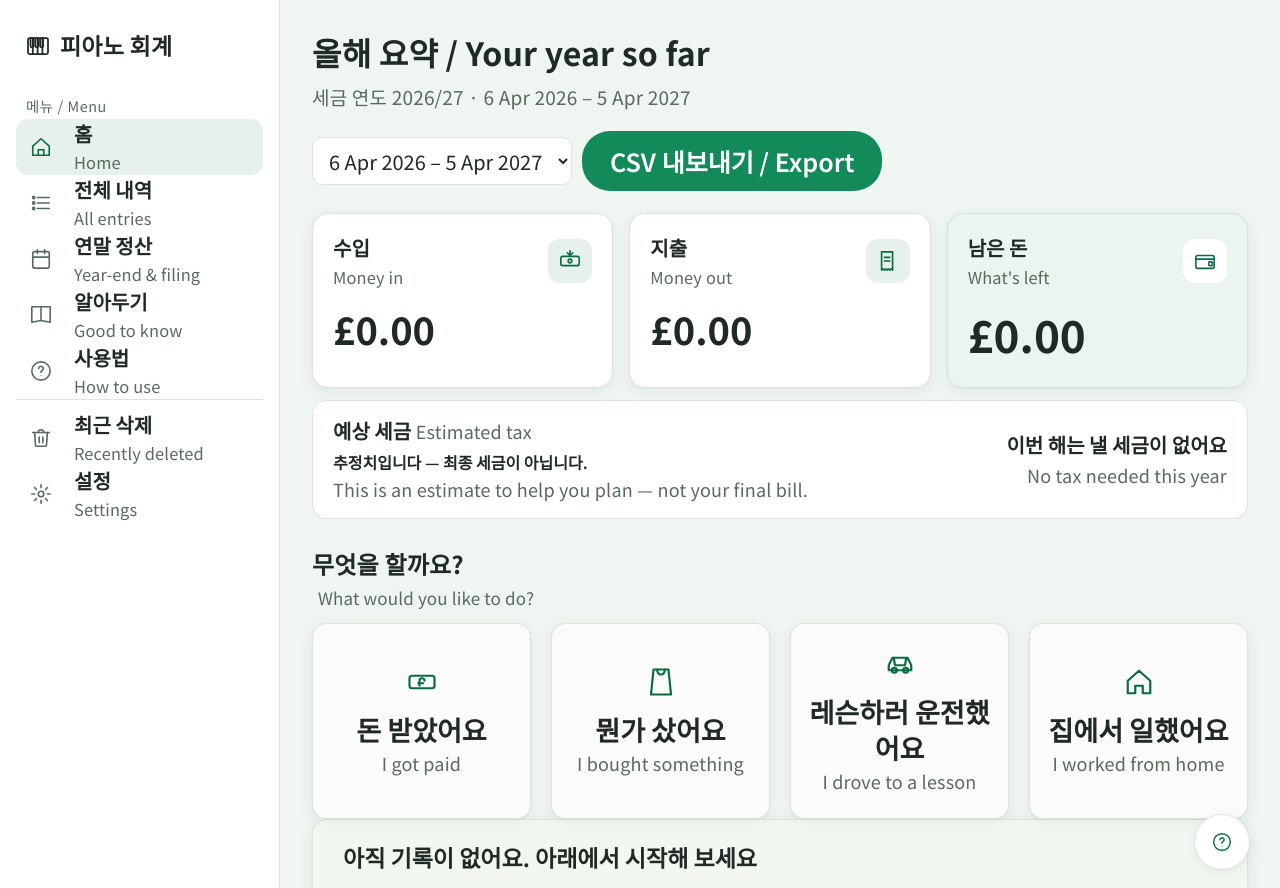
Test: HomeScreen › navigates to the How to use page from the sidebar
Click the text "How to use" at (117, 386), box [74,374,160,398]
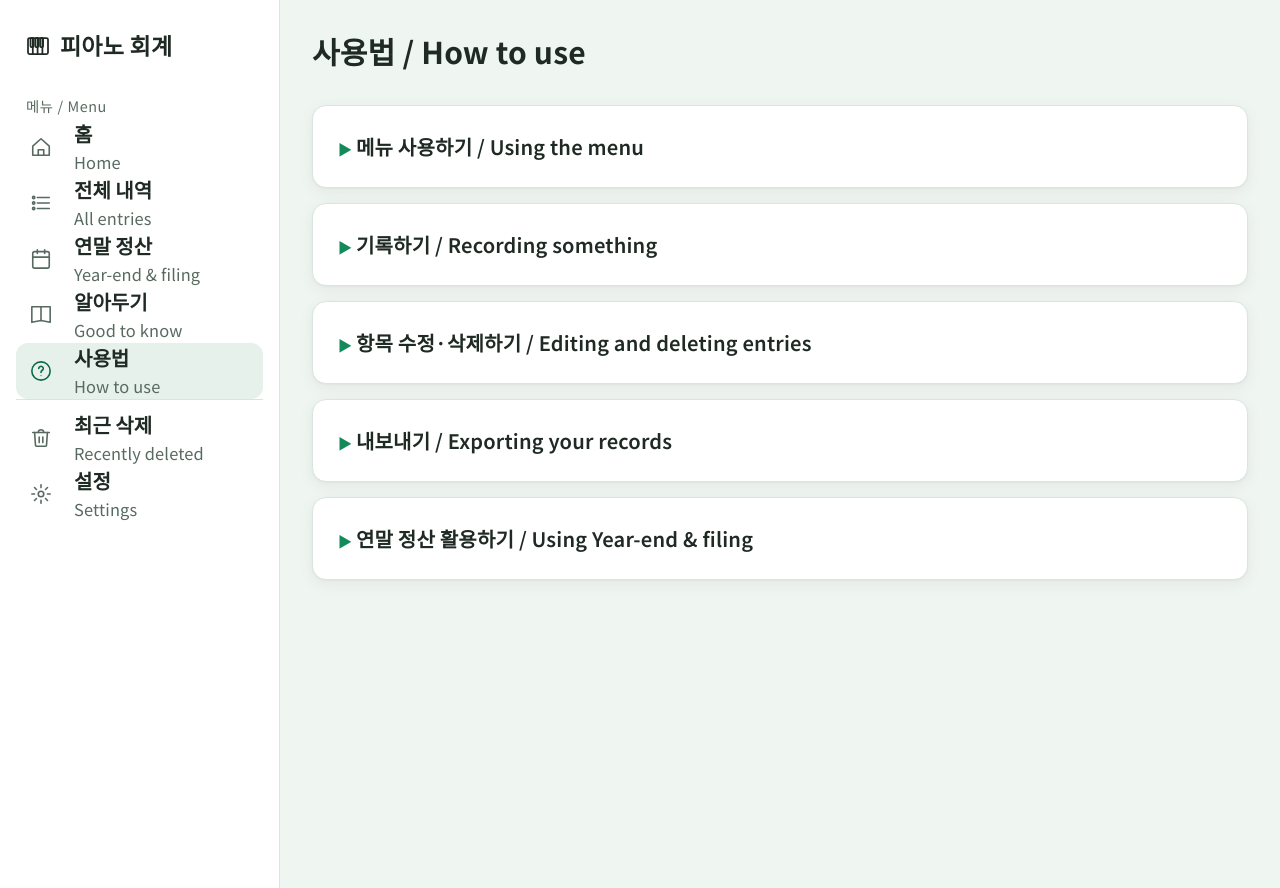
expect the heading "사용법 / How to use" is shown: met, box [312,29,586,73]
